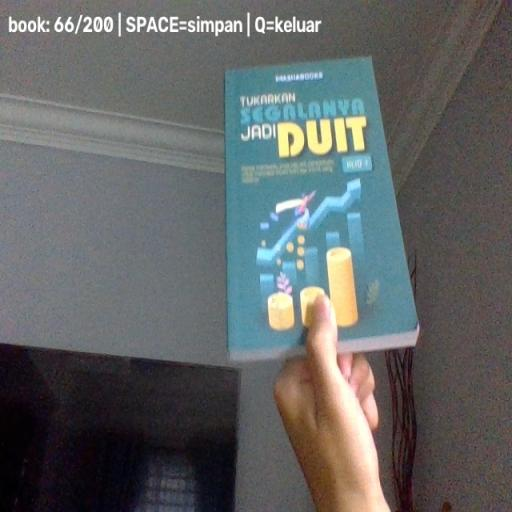Book: (224, 56, 419, 362)
